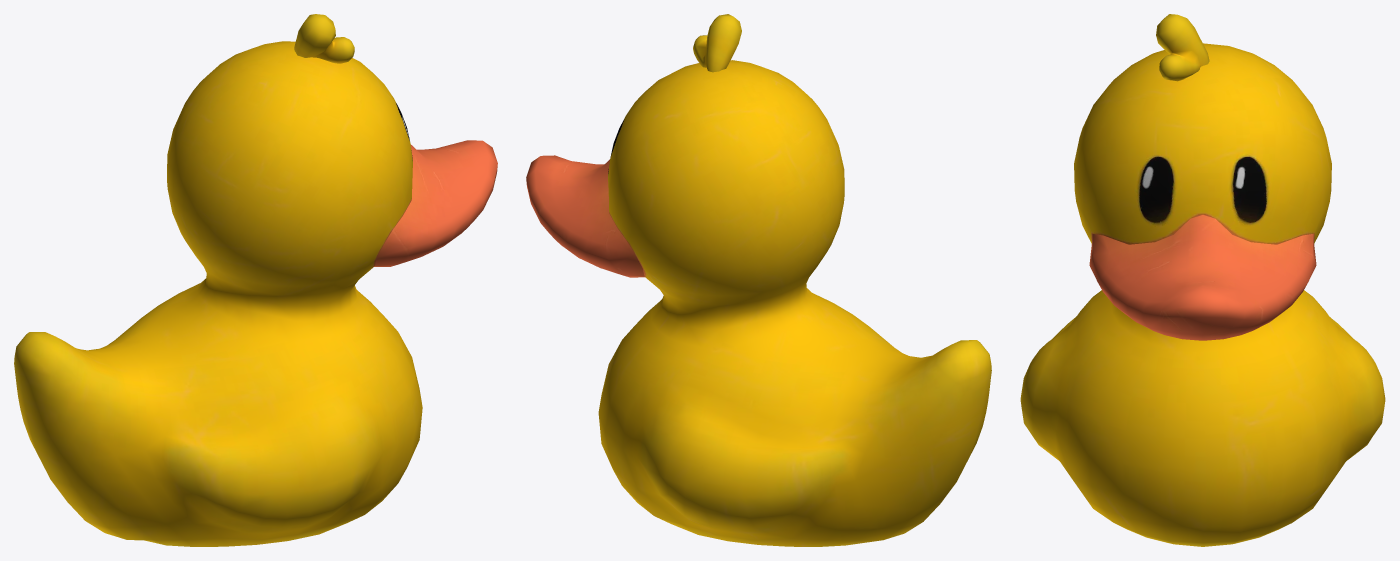
Rendered from cartoon-duck-transformed.glb.
3 renders of one model, left to right at view 1: azimuth 30°, elevation 25°; view 2: azimuth 150°, elevation 25°; view 3: azimuth 270°, elevation 25°, orthographic. The views are drawn at different scales.
Parts seen in each view (by area): view 1: Object_2; view 2: Object_2; view 3: Object_2.
Part boxes in pixels (x1=…): Object_2: x1=14, y1=14, x2=497, y2=546; Object_2: x1=526, y1=14, x2=991, y2=546; Object_2: x1=1020, y1=14, x2=1385, y2=546.
Size of the model in its own units: 0.3328 by 0.3289 by 0.2151.
Materials: 1 (1 with a texture image).
